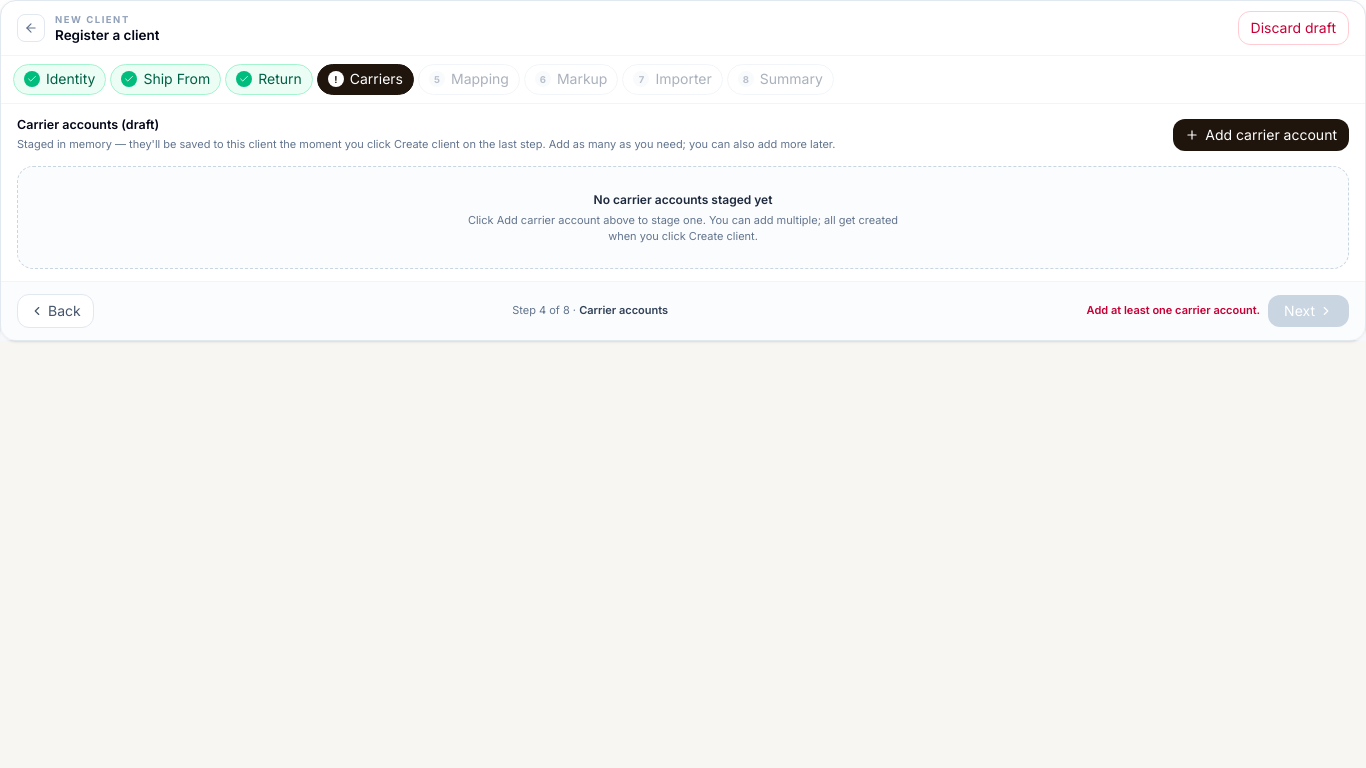
Test case: CarrierDraftStep — positive cases › fills every required field + click Add to list adds the draft
expect the heading "Carrier accounts (draft)" is shown: met, box top-left (17, 117), bottom-right (159, 132)
Click the button "Add carrier account": (1261, 135) top-left (1173, 118), bottom-right (1349, 151)
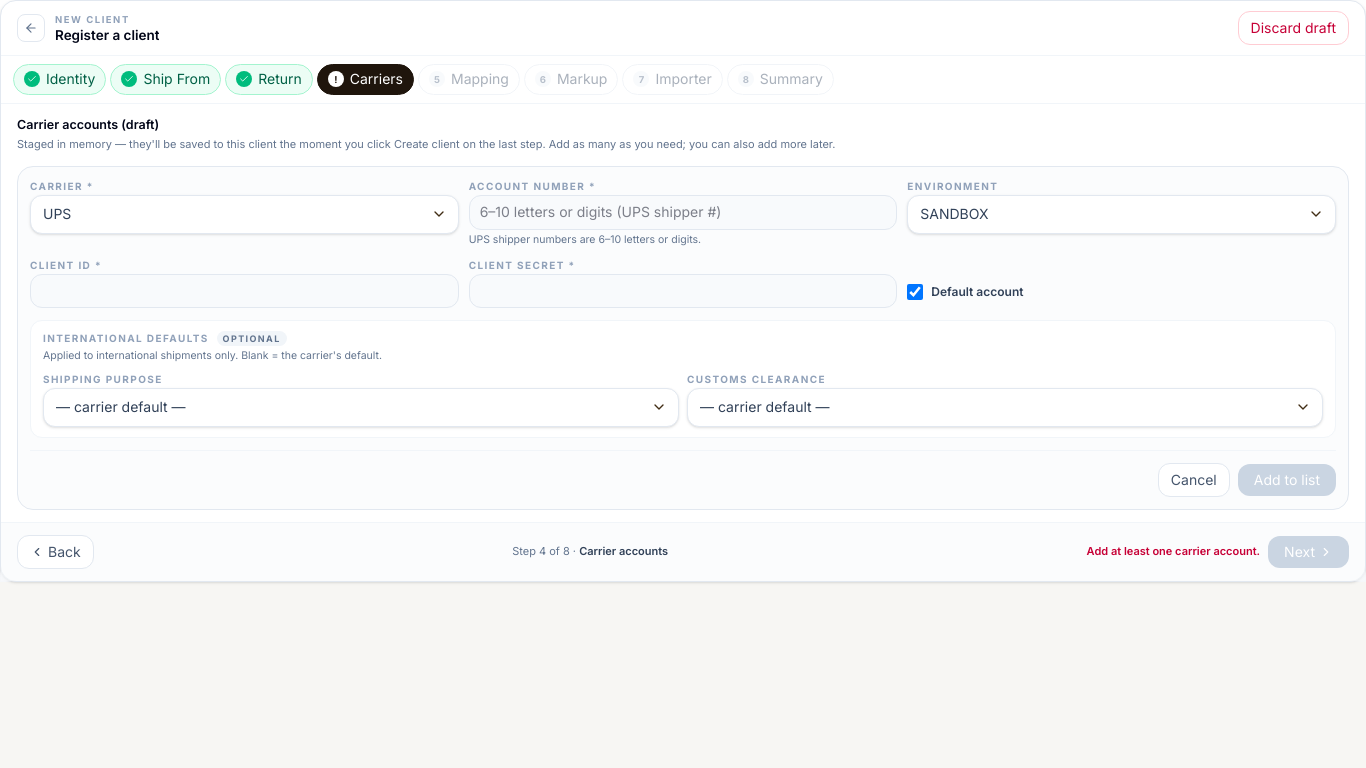
In the 1st field: (683, 212) top-left (469, 195), bottom-right (897, 230), type "ABC123"
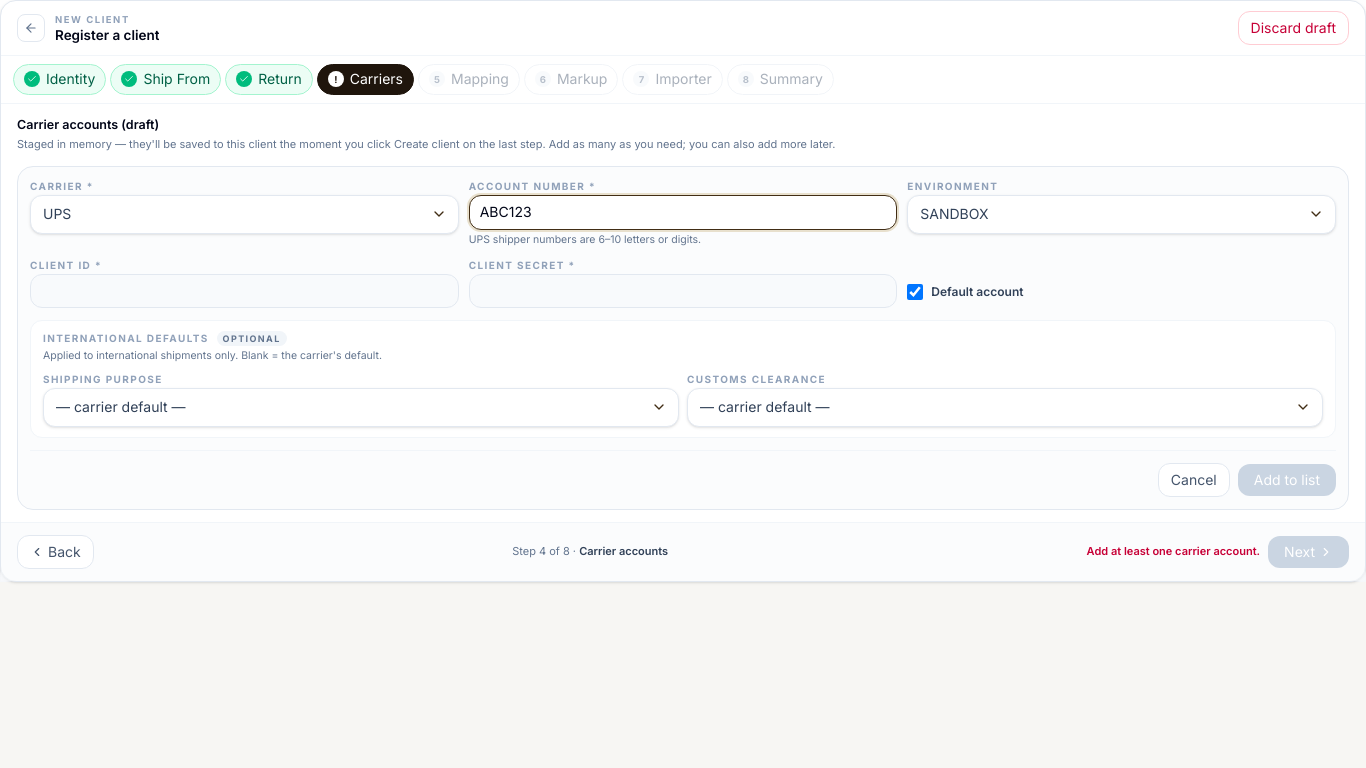
In the field labelled "Client ID *": (244, 291) top-left (30, 274), bottom-right (459, 308), type "client-id-value"
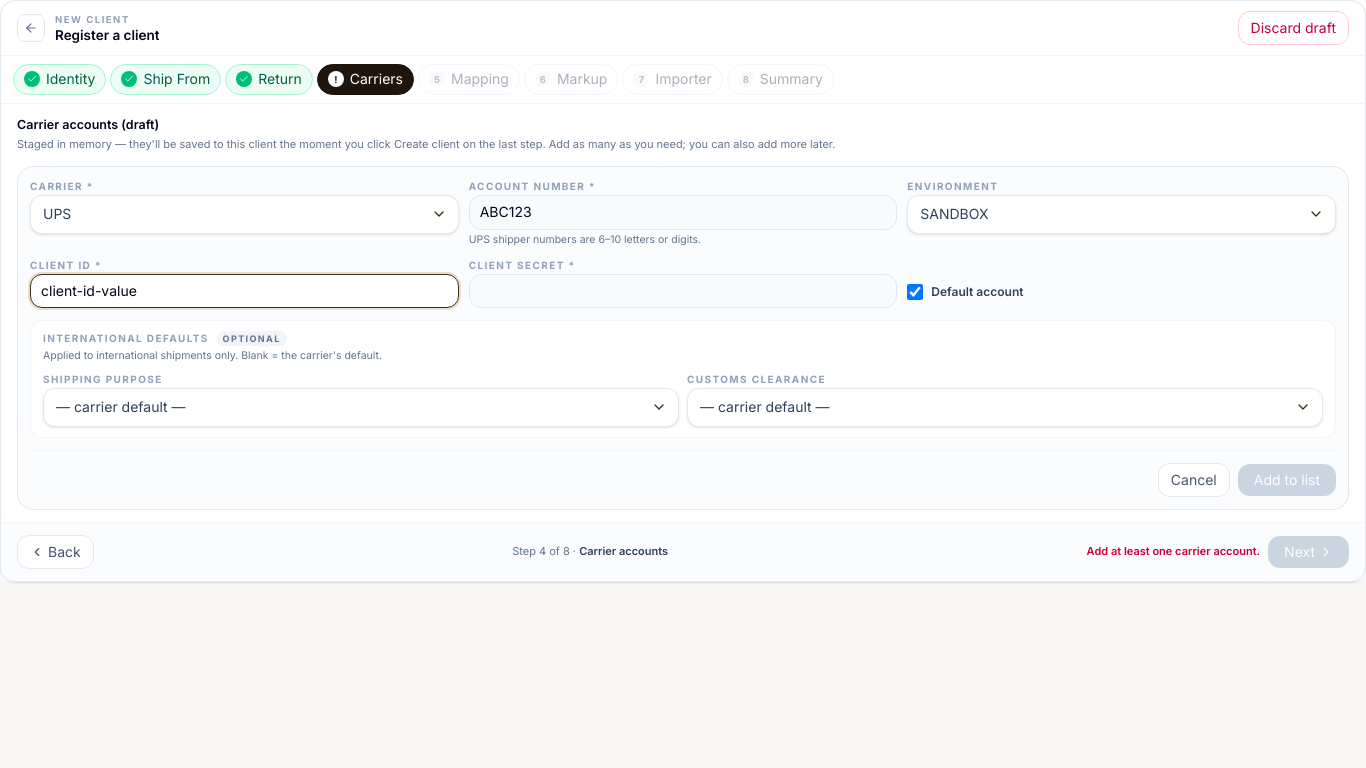
# Password field has no textbox role — grab by placeholder-less selector.
In the password field labelled "Client Secret *": (683, 291) top-left (469, 274), bottom-right (897, 308), type "clientsecret"
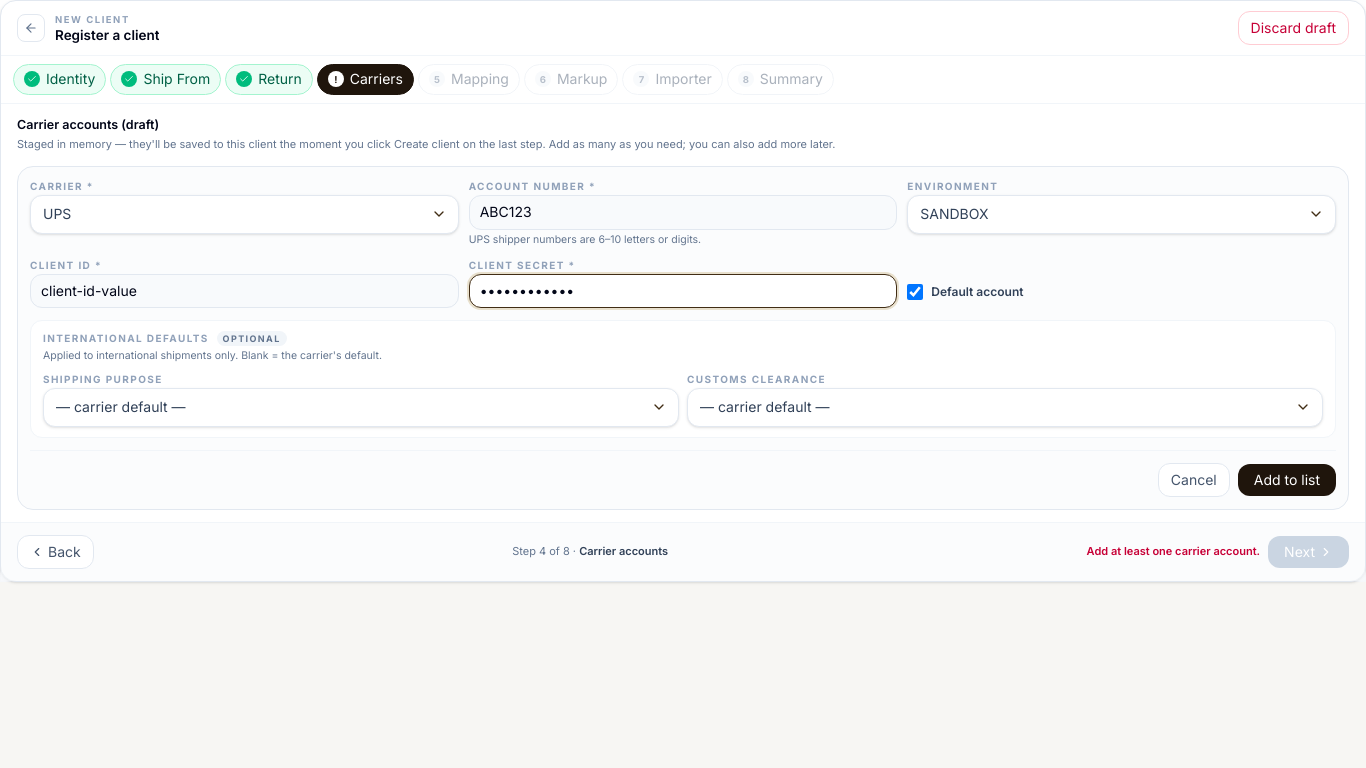
Click the button "Add to list": (1287, 480) top-left (1238, 464), bottom-right (1336, 496)
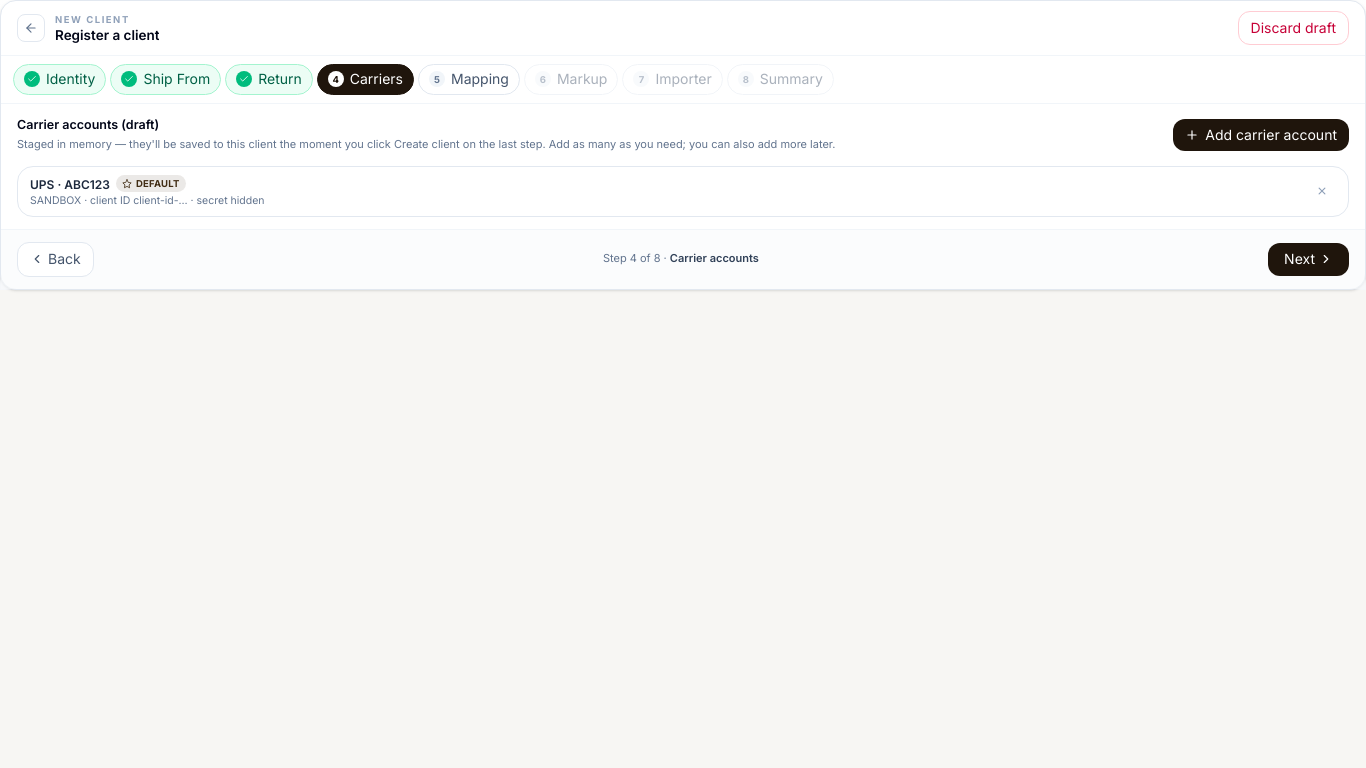
expect the text "UPS · ABC123 default" is shown: met, box top-left (30, 175), bottom-right (186, 192)
